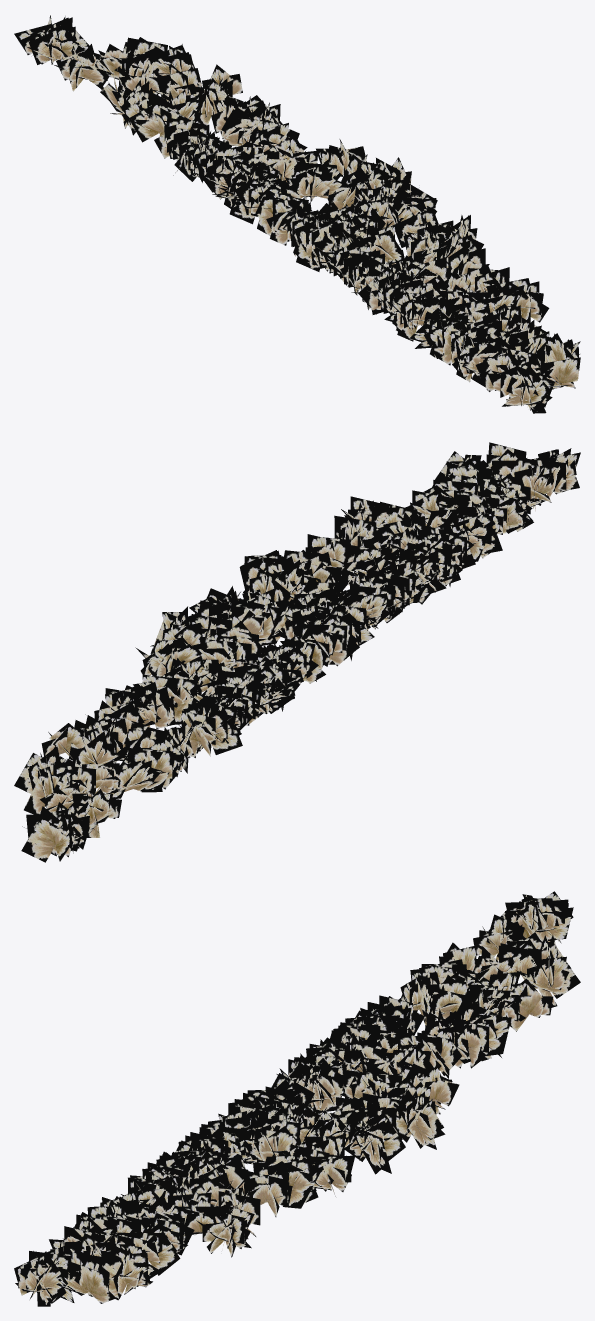
Rendered from sm10_043_fieldplant00.fbx.
The picture shows the model from 3 angles, top to bottom: view 1: azimuth 30°, elevation 25°; view 2: azimuth 150°, elevation 25°; view 3: azimuth 330°, elevation 25°; orthographic projection. The views are drawn at different scales.
Visible parts, largest first — view 1: LOD_1_Group_0_Sub_1__fieldplant00_Mat__Env_AlphaTest; view 2: LOD_1_Group_0_Sub_1__fieldplant00_Mat__Env_AlphaTest; view 3: LOD_1_Group_0_Sub_1__fieldplant00_Mat__Env_AlphaTest.
Part boxes in pixels (x1=…): LOD_1_Group_0_Sub_1__fieldplant00_Mat__Env_AlphaTest: x1=14, y1=15, x2=580, y2=413; LOD_1_Group_0_Sub_1__fieldplant00_Mat__Env_AlphaTest: x1=14, y1=442, x2=580, y2=862; LOD_1_Group_0_Sub_1__fieldplant00_Mat__Env_AlphaTest: x1=14, y1=891, x2=580, y2=1306.
Bounding box in the file's own units: 7.21 × 2.13 × 38.17.
